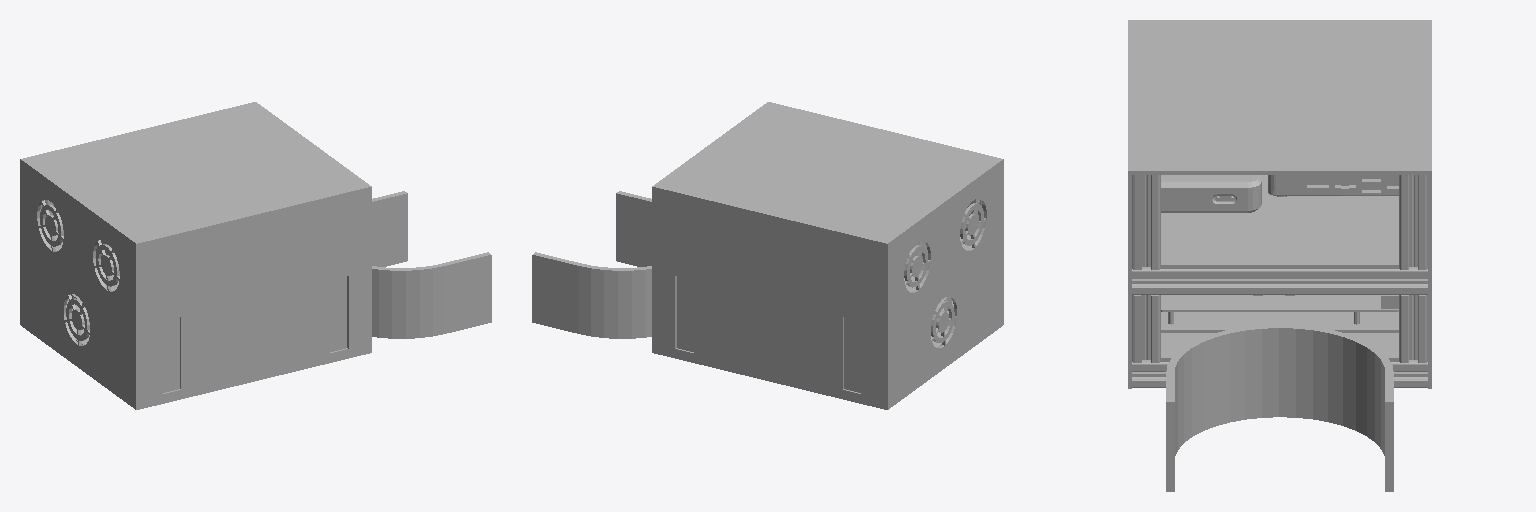
URDF robot description (cw3):
<?xml version="1.0" encoding="utf-8"?>
<!-- This URDF was automatically created by SolidWorks to URDF Exporter! Originally created by [author] ([email redacted]) 
     Commit Version: 1.5.1-0-g916b5db  Build Version: 1.5.7152.31018
     For more information, please see http://wiki.ros.org/sw_urdf_exporter -->
<robot
  name="cw3">
  <link
    name="Base">
    <inertial>
      <origin
        xyz="-0.143651511857374 0.108895459398045 0.0812772540077323"
        rpy="0 0 0" />
      <mass
        value="5.26325366509137" />
      <inertia
        ixx="0.0148943720049105"
        ixy="-1.47975198134274E-06"
        ixz="-8.31653282119488E-06"
        iyy="0.0219350627580291"
        iyz="-4.01751561824986E-06"
        izz="0.0231941861217009" />
    </inertial>
    <visual>
      <origin
        xyz="0 0 0"
        rpy="0 0 0" />
      <geometry>
        <mesh
          filename="package://cw3/meshes/Base.STL" />
      </geometry>
      <material
        name="">
        <color
          rgba="0.752941176470588 0.752941176470588 0.752941176470588 1" />
      </material>
    </visual>
    <collision>
      <origin
        xyz="0 0 0"
        rpy="0 0 0" />
      <geometry>
        <mesh
          filename="package://cw3/meshes/Base.STL" />
      </geometry>
    </collision>
  </link>
  <link
    name="LFS">
    <inertial>
      <origin
        xyz="0.0666875210853818 0.00364278355332764 -0.0648369138582873"
        rpy="0 0 0" />
      <mass
        value="0.26437001106024" />
      <inertia
        ixx="3.20746276473134E-05"
        ixy="-1.44118283521323E-07"
        ixz="-6.30853084344802E-08"
        iyy="6.22704126338856E-05"
        iyz="-2.01894652764197E-07"
        izz="6.28519936954001E-05" />
    </inertial>
    <visual>
      <origin
        xyz="0 0 0"
        rpy="0 0 0" />
      <geometry>
        <mesh
          filename="package://cw3/meshes/LFS.STL" />
      </geometry>
      <material
        name="">
        <color
          rgba="0.752941176470588 0.752941176470588 0.752941176470588 1" />
      </material>
    </visual>
    <collision>
      <origin
        xyz="0 0 0"
        rpy="0 0 0" />
      <geometry>
        <mesh
          filename="package://cw3/meshes/LFS.STL" />
      </geometry>
    </collision>
  </link>
  <joint
    name="LFS"
    type="prismatic">
    <origin
      xyz="-0.050812 0.31516 -0.047207"
      rpy="2.834 0 -1.5708" />
    <parent
      link="Base" />
    <child
      link="LFS" />
    <axis
      xyz="0 0.3028 -0.95305" />
    <limit
      lower="0"
      upper="0"
      effort="0"
      velocity="0" />
  </joint>
  <link
    name="LFW">
    <inertial>
      <origin
        xyz="-0.012315724574073 -1.38777878078145E-17 0"
        rpy="0 0 0" />
      <mass
        value="0.193585420779862" />
      <inertia
        ixx="0.000253081141332254"
        ixy="-5.88092833198904E-37"
        ixz="5.1845054750851E-21"
        iyy="0.000136818598566517"
        iyz="7.17557753438369E-37"
        izz="0.000136818598566517" />
    </inertial>
    <visual>
      <origin
        xyz="0 0 0"
        rpy="0 0 0" />
      <geometry>
        <mesh
          filename="package://cw3/meshes/LFW.STL" />
      </geometry>
      <material
        name="">
        <color
          rgba="1 1 1 1" />
      </material>
    </visual>
    <collision>
      <origin
        xyz="0 0 0"
        rpy="0 0 0" />
      <geometry>
        <mesh
          filename="package://cw3/meshes/LFW.STL" />
      </geometry>
    </collision>
  </link>
  <joint
    name="LFW"
    type="continuous">
    <origin
      xyz="0.00041099 -0.018219 -0.039786"
      rpy="-1.8784 0 3.1416" />
    <parent
      link="LFS" />
    <child
      link="LFW" />
    <axis
      xyz="1 0 0" />
  </joint>
  <link
    name="RFS">
    <inertial>
      <origin
        xyz="0.0724473276378503 -0.00242306558271338 -0.0667549990091164"
        rpy="0 0 0" />
      <mass
        value="0.26437001106024" />
      <inertia
        ixx="3.20746276473134E-05"
        ixy="1.4411828352133E-07"
        ixz="6.30853084344786E-08"
        iyy="6.22704126338856E-05"
        iyz="-2.01894652764197E-07"
        izz="6.28519936954002E-05" />
    </inertial>
    <visual>
      <origin
        xyz="0 0 0"
        rpy="0 0 0" />
      <geometry>
        <mesh
          filename="package://cw3/meshes/RFS.STL" />
      </geometry>
      <material
        name="">
        <color
          rgba="0.752941176470588 0.752941176470588 0.752941176470588 1" />
      </material>
    </visual>
    <collision>
      <origin
        xyz="0 0 0"
        rpy="0 0 0" />
      <geometry>
        <mesh
          filename="package://cw3/meshes/RFS.STL" />
      </geometry>
    </collision>
  </link>
  <joint
    name="RFS"
    type="prismatic">
    <origin
      xyz="-0.012128 -0.10492 -0.047207"
      rpy="2.834 0 1.5708" />
    <parent
      link="Base" />
    <child
      link="RFS" />
    <axis
      xyz="0 0.3028 -0.95305" />
    <limit
      lower="0"
      upper="0"
      effort="0"
      velocity="0" />
  </joint>
  <link
    name="RFW">
    <inertial>
      <origin
        xyz="-0.012315724574073 5.55111512312578E-17 2.77555756156289E-17"
        rpy="0 0 0" />
      <mass
        value="0.193585420779862" />
      <inertia
        ixx="0.000253081141332254"
        ixy="-9.44297928840746E-22"
        ixz="9.68305644339428E-21"
        iyy="0.000136818598566517"
        iyz="1.01643953670516E-20"
        izz="0.000136818598566517" />
    </inertial>
    <visual>
      <origin
        xyz="0 0 0"
        rpy="0 0 0" />
      <geometry>
        <mesh
          filename="package://cw3/meshes/RFW.STL" />
      </geometry>
      <material
        name="">
        <color
          rgba="1 1 1 1" />
      </material>
    </visual>
    <collision>
      <origin
        xyz="0 0 0"
        rpy="0 0 0" />
      <geometry>
        <mesh
          filename="package://cw3/meshes/RFW.STL" />
      </geometry>
    </collision>
  </link>
  <joint
    name="RFW"
    type="continuous">
    <origin
      xyz="0.0061708 0.00097405 -0.03369"
      rpy="-0.69943 0 3.1416" />
    <parent
      link="RFS" />
    <child
      link="RFW" />
    <axis
      xyz="1 0 0" />
  </joint>
  <link
    name="LBS">
    <inertial>
      <origin
        xyz="0.0754022136877307 -0.00953574862501652 -0.0222014198592475"
        rpy="0 0 0" />
      <mass
        value="0.197009126147877" />
      <inertia
        ixx="1.68802738687172E-05"
        ixy="2.58328438529551E-21"
        ixz="1.18577823546112E-21"
        iyy="5.02184885667569E-05"
        iyz="1.05088759291849E-06"
        izz="4.72447473350486E-05" />
    </inertial>
    <visual>
      <origin
        xyz="0 0 0"
        rpy="0 0 0" />
      <geometry>
        <mesh
          filename="package://cw3/meshes/LBS.STL" />
      </geometry>
      <material
        name="">
        <color
          rgba="0.752941176470588 0.752941176470588 0.752941176470588 1" />
      </material>
    </visual>
    <collision>
      <origin
        xyz="0 0 0"
        rpy="0 0 0" />
      <geometry>
        <mesh
          filename="package://cw3/meshes/LBS.STL" />
      </geometry>
    </collision>
  </link>
  <joint
    name="LBS"
    type="prismatic">
    <origin
      xyz="-0.23081 0.31516 0.0042239"
      rpy="2.834 0 -1.5708" />
    <parent
      link="Base" />
    <child
      link="LBS" />
    <axis
      xyz="0 0.3028 -0.95305" />
    <limit
      lower="0"
      upper="0"
      effort="0"
      velocity="0" />
  </joint>
  <link
    name="LBC">
    <inertial>
      <origin
        xyz="0.00212675678752455 -0.00125107346378663 -2.77555756156289E-17"
        rpy="0 0 0" />
      <mass
        value="0.0337925918529465" />
      <inertia
        ixx="9.9077845929407E-06"
        ixy="1.2779398016802E-06"
        ixz="3.67728105189615E-22"
        iyy="2.88462343109062E-06"
        iyz="2.45683615644496E-21"
        izz="1.17553584577796E-05" />
    </inertial>
    <visual>
      <origin
        xyz="0 0 0"
        rpy="0 0 0" />
      <geometry>
        <mesh
          filename="package://cw3/meshes/LBC.STL" />
      </geometry>
      <material
        name="">
        <color
          rgba="0.898039215686275 0.917647058823529 0.929411764705882 1" />
      </material>
    </visual>
    <collision>
      <origin
        xyz="0 0 0"
        rpy="0 0 0" />
      <geometry>
        <mesh
          filename="package://cw3/meshes/LBC.STL" />
      </geometry>
    </collision>
  </link>
  <joint
    name="LBC"
    type="continuous">
    <origin
      xyz="0.041161 -0.015068 -0.0047875"
      rpy="-1.8784 0 3.1416" />
    <parent
      link="LBS" />
    <child
      link="LBC" />
    <axis
      xyz="0 1 0" />
  </joint>
  <link
    name="LBW">
    <inertial>
      <origin
        xyz="0.017684275425927 0 0"
        rpy="0 0 0" />
      <mass
        value="0.193585420779862" />
      <inertia
        ixx="0.000253081141332254"
        ixy="-5.88092833198904E-37"
        ixz="5.1845054750851E-21"
        iyy="0.000136818598566517"
        iyz="7.17557753438369E-37"
        izz="0.000136818598566517" />
    </inertial>
    <visual>
      <origin
        xyz="0 0 0"
        rpy="0 0 0" />
      <geometry>
        <mesh
          filename="package://cw3/meshes/LBW.STL" />
      </geometry>
      <material
        name="">
        <color
          rgba="1 1 1 1" />
      </material>
    </visual>
    <collision>
      <origin
        xyz="0 0 0"
        rpy="0 0 0" />
      <geometry>
        <mesh
          filename="package://cw3/meshes/LBW.STL" />
      </geometry>
    </collision>
  </link>
  <joint
    name="LBW"
    type="continuous">
    <origin
      xyz="0.01075 -0.019033 0"
      rpy="0 0 0" />
    <parent
      link="LBC" />
    <child
      link="LBW" />
    <axis
      xyz="1 0 0" />
  </joint>
  <link
    name="RBS">
    <inertial>
      <origin
        xyz="0.0754022136877307 -0.00953574862501652 -0.0222014198592475"
        rpy="0 0 0" />
      <mass
        value="0.197009126147877" />
      <inertia
        ixx="1.68802738687172E-05"
        ixy="-2.41396624049112E-21"
        ixz="-1.24093035601734E-21"
        iyy="5.02184885667569E-05"
        iyz="1.05088759291849E-06"
        izz="4.72447473350486E-05" />
    </inertial>
    <visual>
      <origin
        xyz="0 0 0"
        rpy="0 0 0" />
      <geometry>
        <mesh
          filename="package://cw3/meshes/RBS.STL" />
      </geometry>
      <material
        name="">
        <color
          rgba="0.752941176470588 0.752941176470588 0.752941176470588 1" />
      </material>
    </visual>
    <collision>
      <origin
        xyz="0 0 0"
        rpy="0 0 0" />
      <geometry>
        <mesh
          filename="package://cw3/meshes/RBS.STL" />
      </geometry>
    </collision>
  </link>
  <joint
    name="RBS"
    type="prismatic">
    <origin
      xyz="-0.19919 -0.099161 0.0042239"
      rpy="2.834 0 1.5708" />
    <parent
      link="Base" />
    <child
      link="RBS" />
    <axis
      xyz="0 0.3028 -0.95305" />
    <limit
      lower="0"
      upper="0"
      effort="0"
      velocity="0" />
  </joint>
  <link
    name="RBC">
    <inertial>
      <origin
        xyz="0.00212675678752453 -0.00125107346378658 0"
        rpy="0 0 0" />
      <mass
        value="0.0337925918529464" />
      <inertia
        ixx="9.90778459294068E-06"
        ixy="1.2779398016802E-06"
        ixz="6.03684758242504E-22"
        iyy="2.88462343109061E-06"
        iyz="2.58373693466956E-21"
        izz="1.17553584577795E-05" />
    </inertial>
    <visual>
      <origin
        xyz="0 0 0"
        rpy="0 0 0" />
      <geometry>
        <mesh
          filename="package://cw3/meshes/RBC.STL" />
      </geometry>
      <material
        name="">
        <color
          rgba="0.898039215686275 0.917647058823529 0.929411764705882 1" />
      </material>
    </visual>
    <collision>
      <origin
        xyz="0 0 0"
        rpy="0 0 0" />
      <geometry>
        <mesh
          filename="package://cw3/meshes/RBC.STL" />
      </geometry>
    </collision>
  </link>
  <joint
    name="RBC"
    type="continuous">
    <origin
      xyz="0.041161 -0.015068 -0.0047875"
      rpy="-1.8784 0 3.1416" />
    <parent
      link="RBS" />
    <child
      link="RBC" />
    <axis
      xyz="0 1 0" />
  </joint>
  <link
    name="RBW">
    <inertial>
      <origin
        xyz="0.017684275425927 2.77555756156289E-17 0"
        rpy="0 0 0" />
      <mass
        value="0.193585420779862" />
      <inertia
        ixx="0.000253081141332253"
        ixy="-1.77826406212573E-20"
        ixz="1.08676942117992E-20"
        iyy="0.000136818598566517"
        iyz="3.3881317890172E-21"
        izz="0.000136818598566517" />
    </inertial>
    <visual>
      <origin
        xyz="0 0 0"
        rpy="0 0 0" />
      <geometry>
        <mesh
          filename="package://cw3/meshes/RBW.STL" />
      </geometry>
      <material
        name="">
        <color
          rgba="1 1 1 1" />
      </material>
    </visual>
    <collision>
      <origin
        xyz="0 0 0"
        rpy="0 0 0" />
      <geometry>
        <mesh
          filename="package://cw3/meshes/RBW.STL" />
      </geometry>
    </collision>
  </link>
  <joint
    name="RBW"
    type="continuous">
    <origin
      xyz="0.01075 -0.019033 0"
      rpy="1.7808 0 0" />
    <parent
      link="RBC" />
    <child
      link="RBW" />
    <axis
      xyz="1 0 0" />
  </joint>
  <link
    name="Lidar">
    <inertial>
      <origin
        xyz="-0.0784930223787604 -0.744427430950029 -0.133449677865896"
        rpy="0 0 0" />
      <mass
        value="0.0730845704999828" />
      <inertia
        ixx="1.95808756791187E-05"
        ixy="4.28391210140712E-07"
        ixz="-1.03933581663682E-07"
        iyy="4.14184516311443E-05"
        iyz="-9.42671864204444E-09"
        izz="2.41250079960291E-05" />
    </inertial>
    <visual>
      <origin
        xyz="0 0 0"
        rpy="0 0 0" />
      <geometry>
        <mesh
          filename="package://cw3/meshes/Lidar.STL" />
      </geometry>
      <material
        name="">
        <color
          rgba="0.792156862745098 0.819607843137255 0.933333333333333 1" />
      </material>
    </visual>
    <collision>
      <origin
        xyz="0 0 0"
        rpy="0 0 0" />
      <geometry>
        <mesh
          filename="package://cw3/meshes/Lidar.STL" />
      </geometry>
    </collision>
  </link>
  <joint
    name="Lidar"
    type="fixed">
    <origin
      xyz="-0.098561 0.24092 -0.5487"
      rpy="-1.5708 0 0" />
    <parent
      link="Base" />
    <child
      link="Lidar" />
    <axis
      xyz="0 0 0" />
  </joint>
  <link
    name="Cam">
    <inertial>
      <origin
        xyz="-0.0238863589328312 -0.0255006330045159 0.0933352730175545"
        rpy="0 0 0" />
      <mass
        value="0.0842240111641082" />
      <inertia
        ixx="1.39666927752748E-05"
        ixy="-8.82405655949374E-10"
        ixz="-1.01133319009084E-09"
        iyy="3.67256443822933E-05"
        iyz="-1.51507686967881E-06"
        izz="3.01150328860415E-05" />
    </inertial>
    <visual>
      <origin
        xyz="0 0 0"
        rpy="0 0 0" />
      <geometry>
        <mesh
          filename="package://cw3/meshes/Cam.STL" />
      </geometry>
      <material
        name="">
        <color
          rgba="0.752941176470588 0.752941176470588 0.752941176470588 1" />
      </material>
    </visual>
    <collision>
      <origin
        xyz="0 0 0"
        rpy="0 0 0" />
      <geometry>
        <mesh
          filename="package://cw3/meshes/Cam.STL" />
      </geometry>
    </collision>
  </link>
  <joint
    name="Cam"
    type="fixed">
    <origin
      xyz="-0.099325 0.13189 0.16474"
      rpy="1.7188 0 1.5708" />
    <parent
      link="Base" />
    <child
      link="Cam" />
    <axis
      xyz="0 0 0" />
  </joint>
</robot>

--- What the picture shows (computed from the rendered views, not written in the file) ---
3 views of the same robot in one strip: view 1: azimuth 30°, elevation 25°; view 2: azimuth 150°, elevation 25°; view 3: azimuth 270°, elevation 25° (orthographic).
Model cw3 with 13 links and 12 joints (6 continuous, 4 prismatic, 2 fixed), rooted at Base, posed every joint at zero.
Visible links, largest first — view 1: Base; view 2: Base; view 3: Base.
Boxes of the visible links, bbox=[...] form: Base: bbox=[20, 102, 491, 409]; Base: bbox=[532, 102, 1003, 409]; Base: bbox=[1128, 20, 1431, 491].
Size in the robot's own frame: 0.3973 by 0.216 by 0.1845 metres.
1 mesh visuals loaded from 13 distinct referenced files (1 binary STL); not drawn: 12 (reference not matched to a file when rendering).